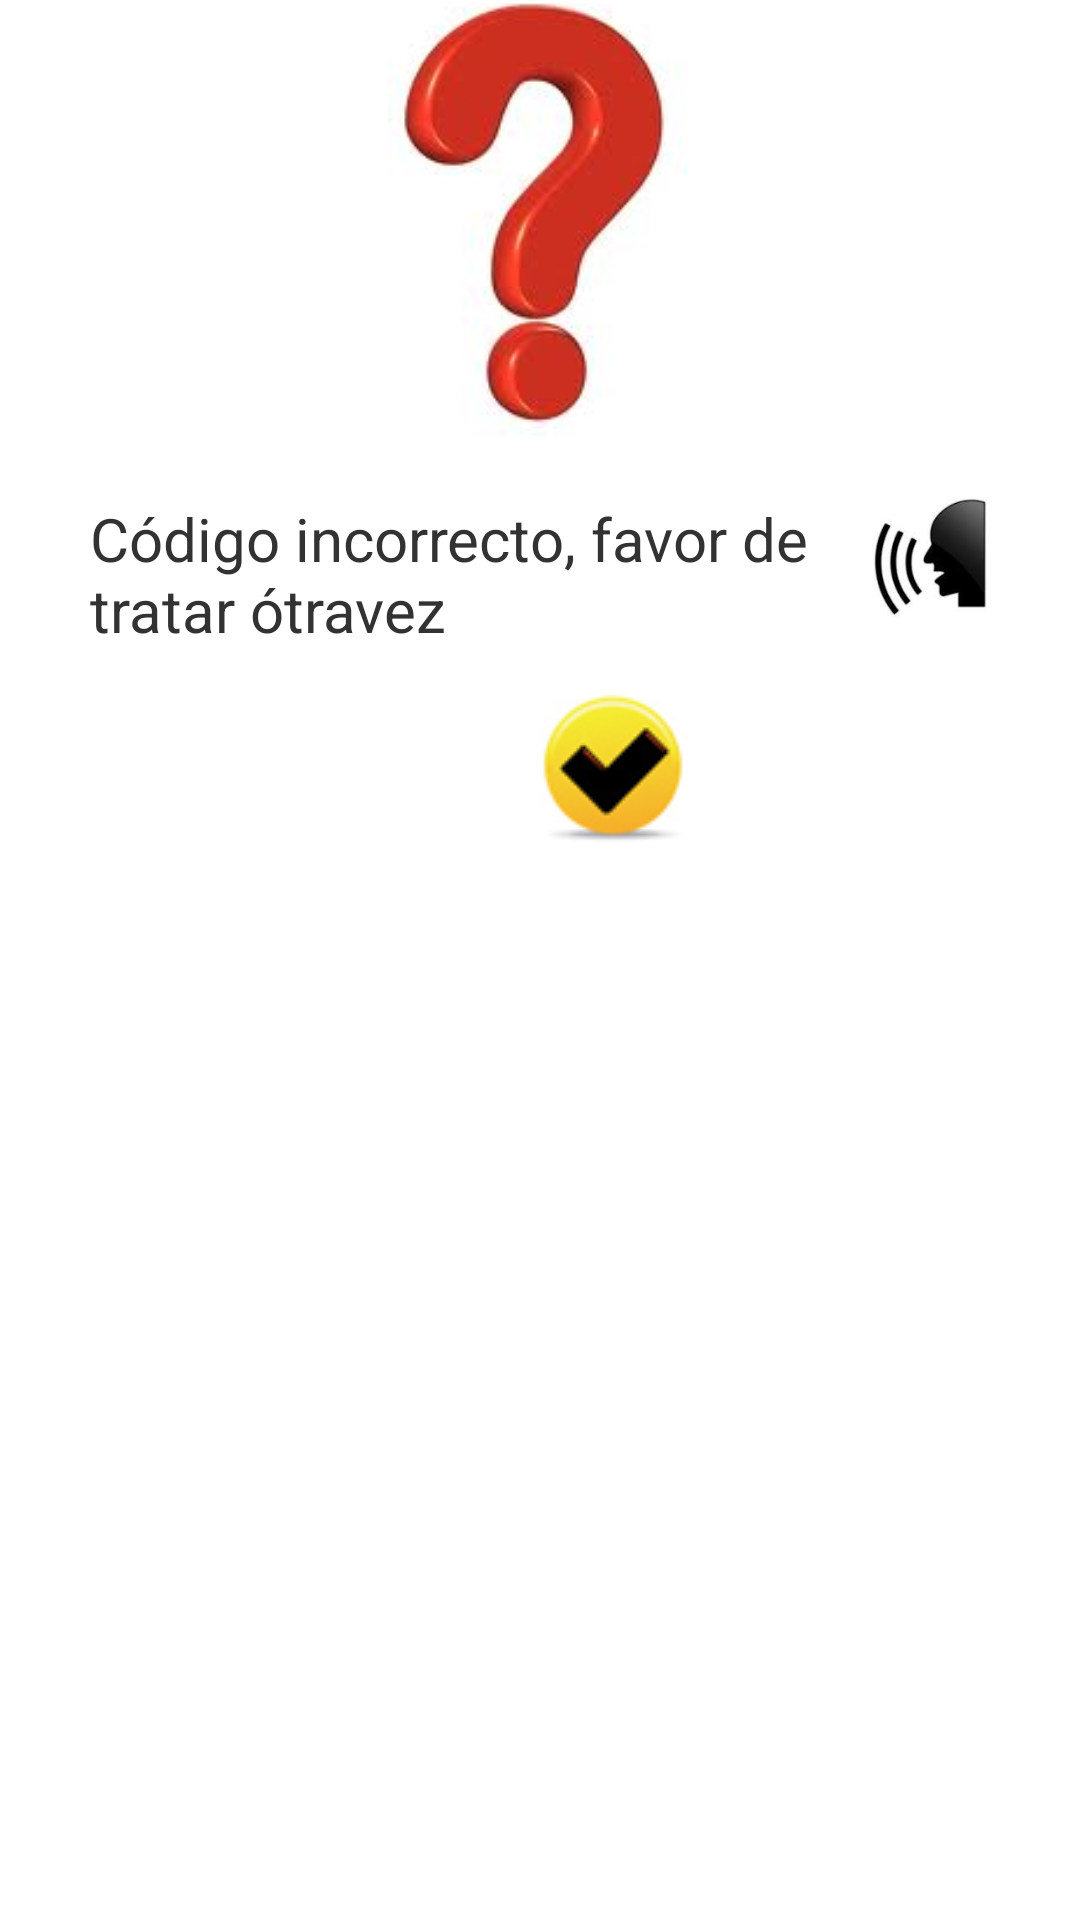

Named icons in this screenshot (1080*1920) and their centers, (x,y):
approve: (613,767)
Sound Icon: (930,557)
